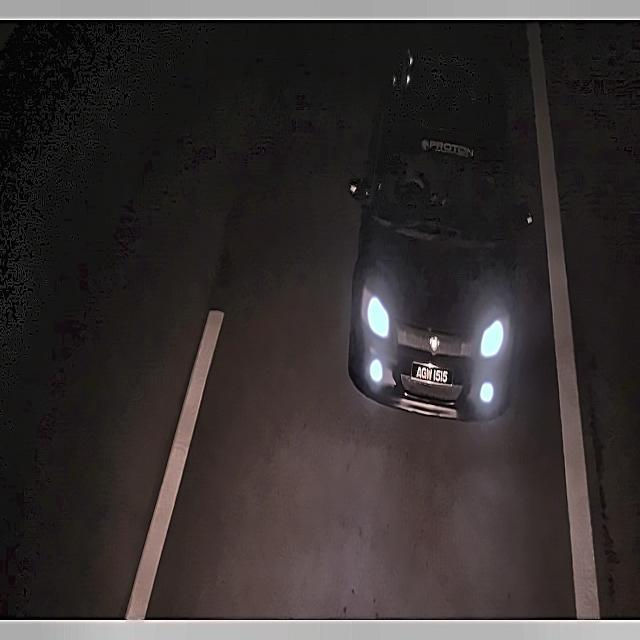car: (408, 355, 460, 392)
